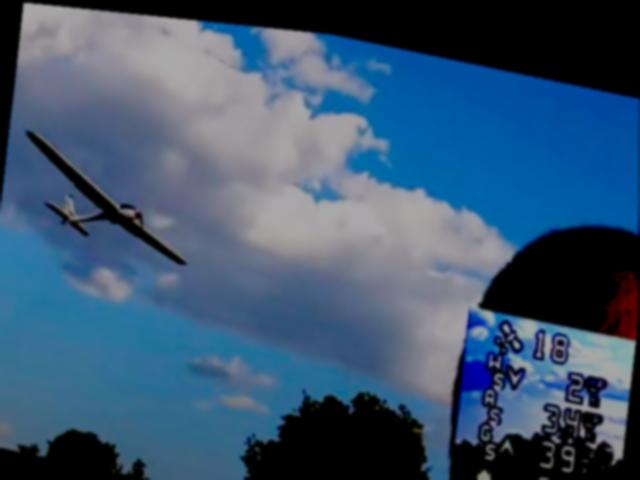iha: (11, 120, 199, 266)
